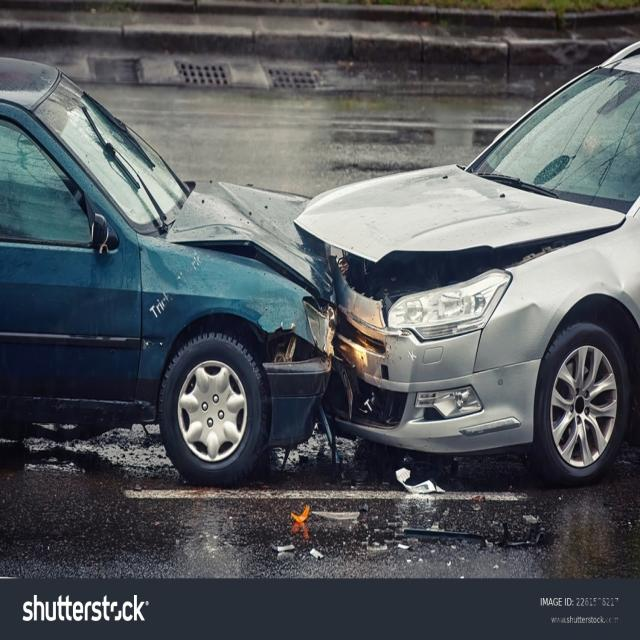accident: (296, 43, 640, 486), (0, 58, 336, 485)
